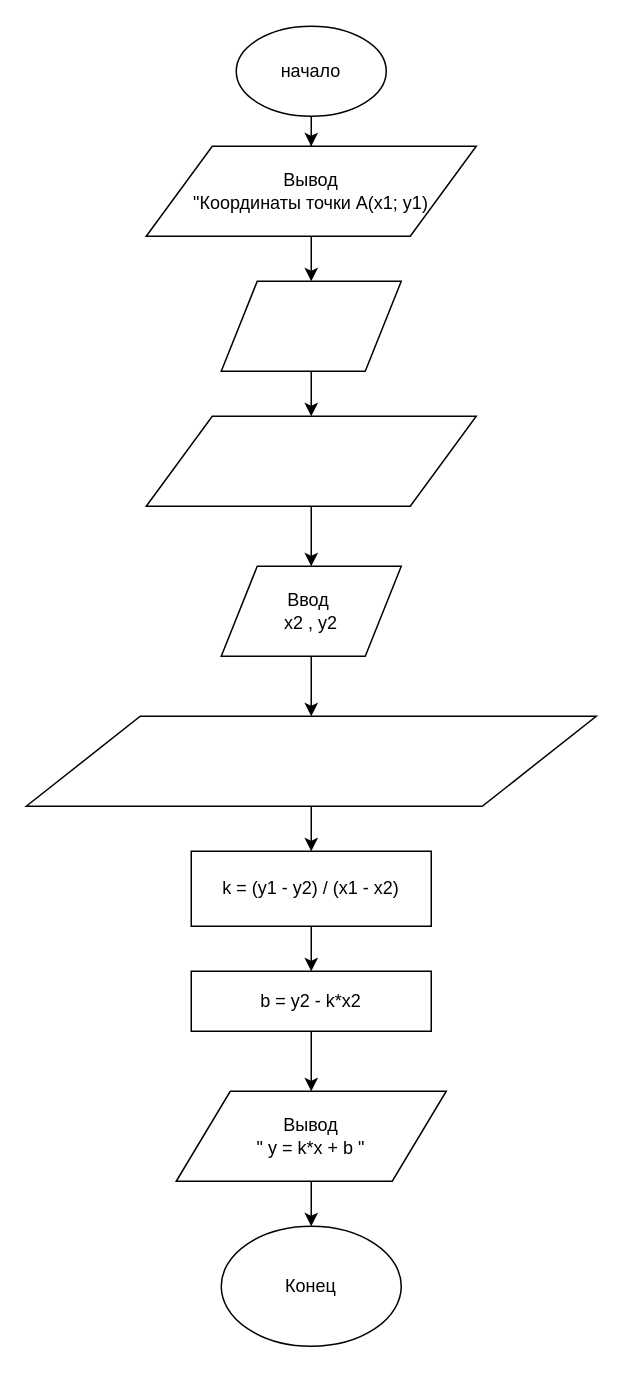
The diagram is 623 pixels wide and 1373 high, and some of its shapes have lost their labels. Here are the shapes that lost their labels. From the top down, the centre of each, then its label:
[310,325]: Ввод x1 , y1
[310,460]: Вывод "Координаты точки A(x2; y2)
[310,760]: Вывод "Уравнение прямой, проходящей через эти точки:"
